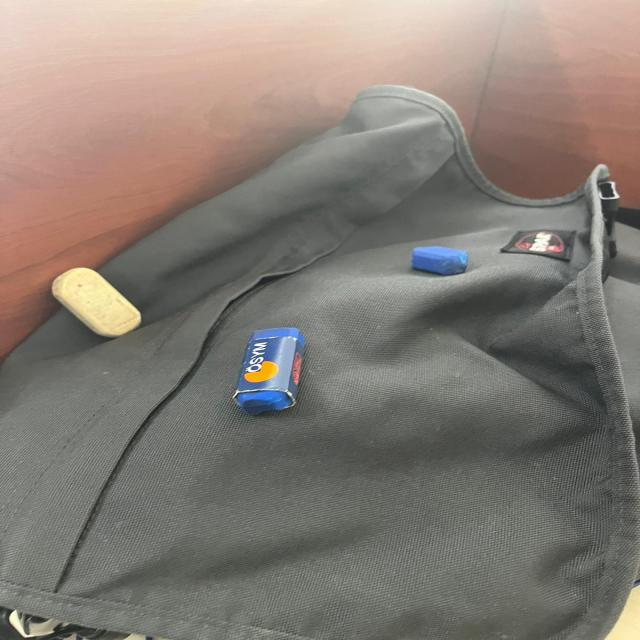eraser: (227, 315, 310, 413), (45, 262, 150, 338), (402, 239, 479, 287)
